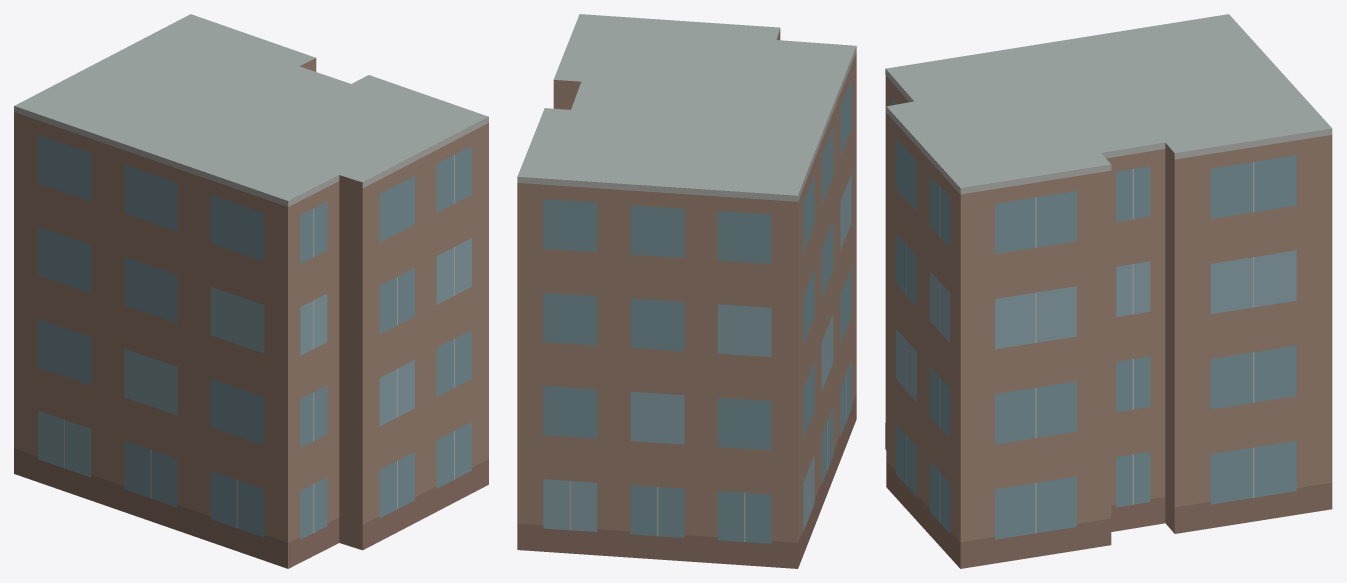
File: survey-upis-32861195.glb
The picture shows the model from 3 angles, left to right: view 1: azimuth 30°, elevation 25°; view 2: azimuth 150°, elevation 25°; view 3: azimuth 270°, elevation 25°; orthographic projection. The views are drawn at different scales.
Visible parts, largest first — view 1: survey-upis-32861195.tmp; view 2: survey-upis-32861195.tmp; view 3: survey-upis-32861195.tmp.
Part boxes in pixels (box(x1,y1,x2,y2)): survey-upis-32861195.tmp: box(14, 14, 488, 568); survey-upis-32861195.tmp: box(517, 14, 856, 568); survey-upis-32861195.tmp: box(885, 14, 1332, 568).
Bounding box in the file's own units: 14.53 × 14.8 × 15.76.
